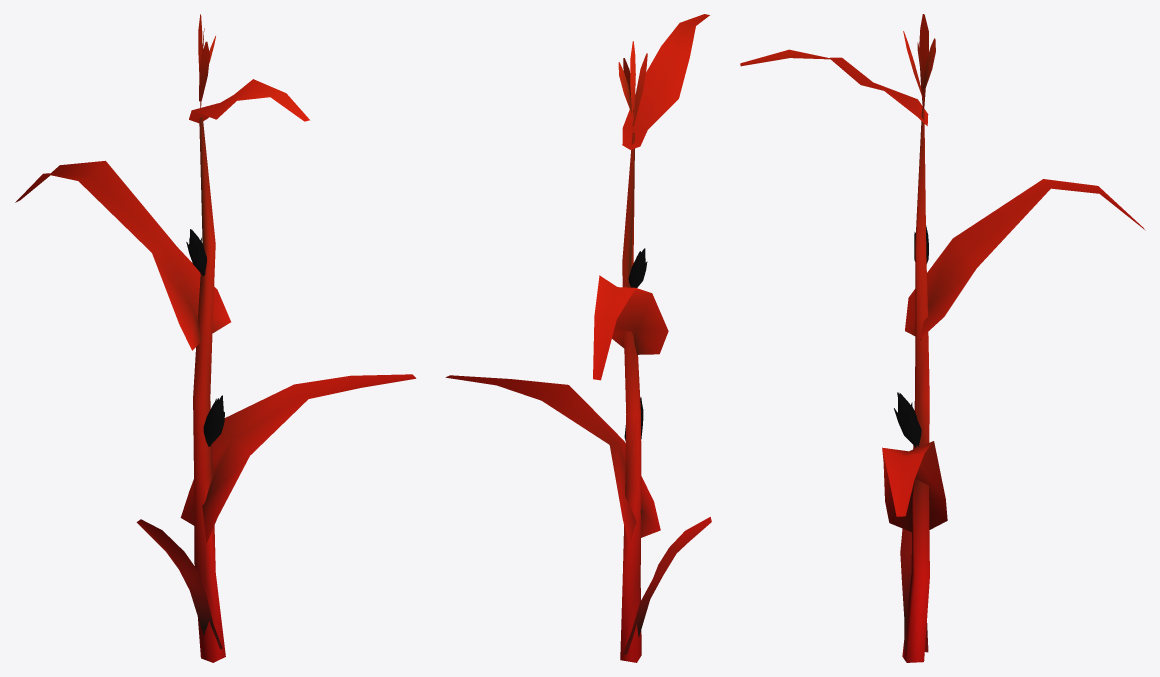
The model's file is SM_CornPlant_6.fbx.
3 views of the same model, side by side, from view 1: azimuth 30°, elevation 25°; view 2: azimuth 150°, elevation 25°; view 3: azimuth 270°, elevation 25° (orthographic). The views are drawn at different scales.
Parts seen in each view (by area): view 1: SM_CornPlant_6; view 2: SM_CornPlant_6; view 3: SM_CornPlant_6.
Boxes of the visible parts, bbox=[...] form: SM_CornPlant_6: bbox=[15, 14, 416, 662]; SM_CornPlant_6: bbox=[445, 14, 711, 662]; SM_CornPlant_6: bbox=[740, 14, 1145, 662].
Bounding box in the file's own units: 0.4489 × 0.9857 × 0.5638.
